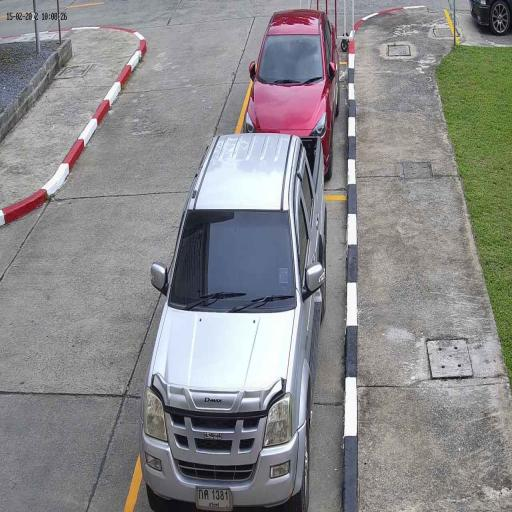car: (140, 131, 328, 512), (242, 8, 342, 183)
